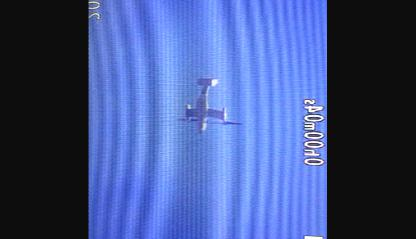Tornado: (176, 77, 244, 132)
